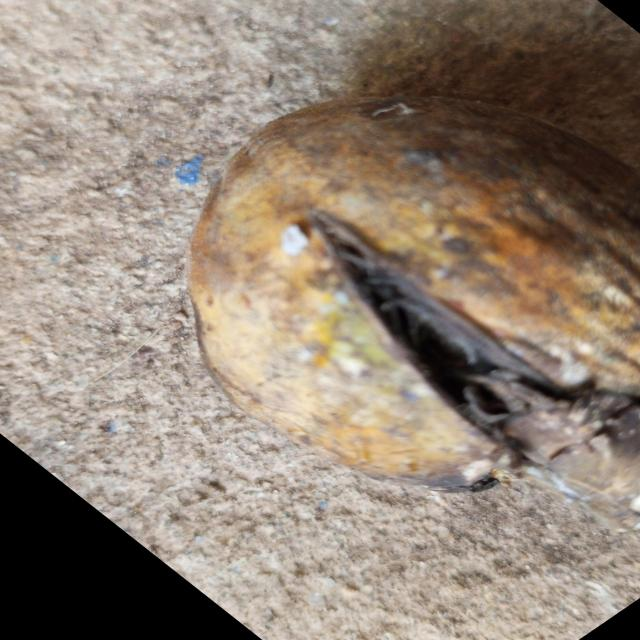damaged: (188, 96, 640, 499)
